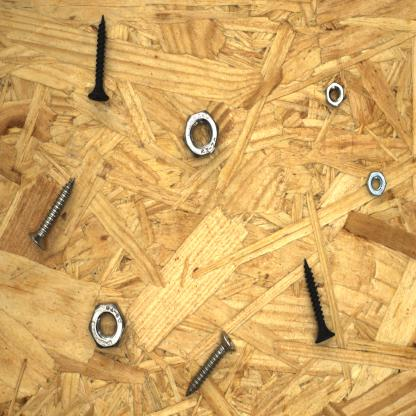screw: (26, 171, 78, 256), (181, 327, 240, 400), (300, 252, 338, 350), (87, 8, 113, 105)
